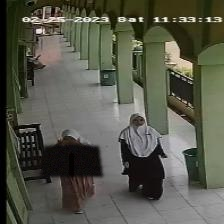Cadar_Niqab: (40, 128, 102, 176)
